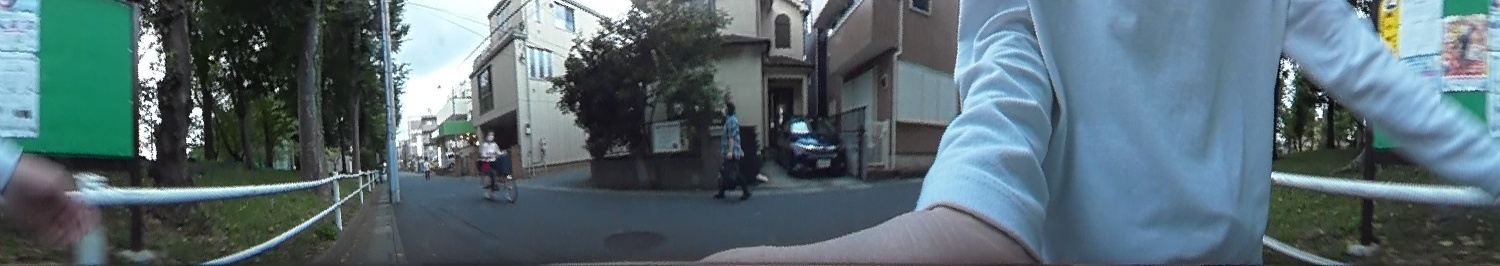difficult_person: (422, 156, 431, 179)
person: (714, 95, 751, 202), (473, 125, 505, 193)
